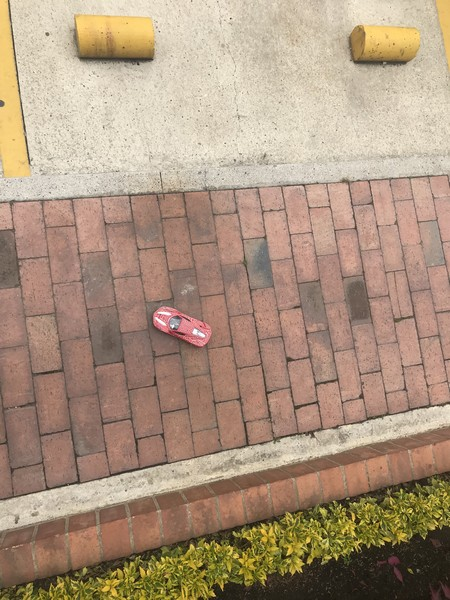RC: (150, 305, 214, 350)
